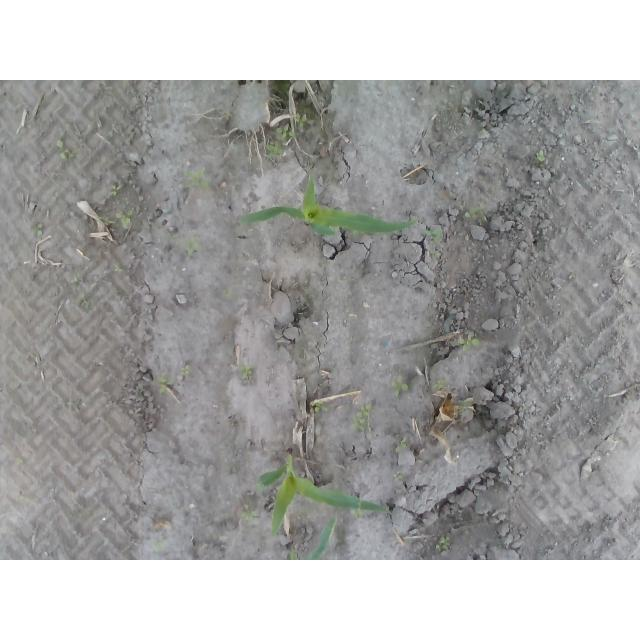Maize: (236, 171, 421, 234), (259, 451, 392, 538), (285, 514, 339, 560)
Weeds: (183, 167, 210, 187), (352, 403, 369, 433), (392, 374, 409, 398), (457, 336, 481, 353), (57, 140, 76, 161), (117, 208, 134, 229), (435, 537, 452, 556), (266, 143, 283, 161), (295, 111, 309, 131), (156, 373, 169, 394), (277, 122, 292, 138), (186, 241, 200, 256), (239, 365, 255, 378), (239, 510, 256, 522), (312, 402, 326, 415), (32, 222, 43, 238), (464, 208, 479, 219), (112, 263, 126, 274), (428, 230, 440, 242), (392, 471, 404, 482), (179, 365, 190, 376), (432, 379, 444, 389), (352, 508, 364, 518), (535, 150, 545, 162), (399, 436, 408, 449), (222, 289, 232, 299), (110, 184, 118, 196), (223, 111, 231, 121)
